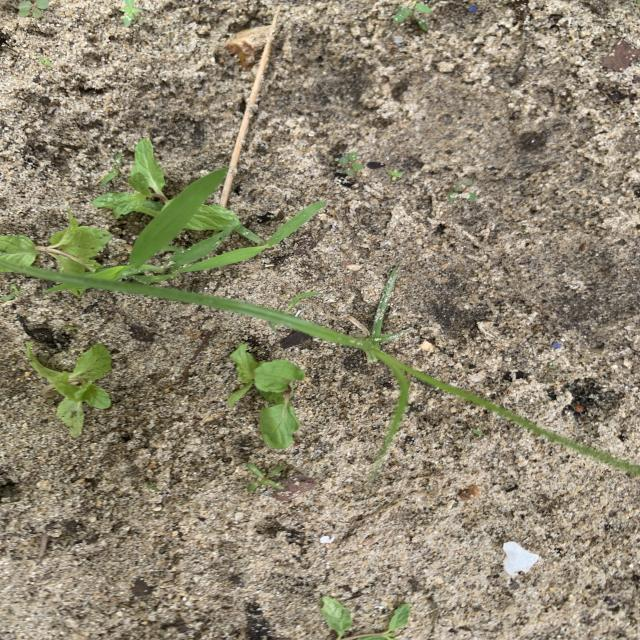crop: (227, 344, 309, 449), (26, 342, 112, 438), (0, 211, 112, 274), (93, 139, 168, 218), (321, 596, 410, 640), (193, 204, 252, 238)
weed: (290, 319, 640, 480), (128, 169, 226, 273), (161, 222, 267, 277), (265, 201, 327, 247), (85, 264, 166, 284), (114, 0, 147, 26), (240, 303, 278, 324), (18, 0, 50, 18), (345, 152, 362, 177), (386, 169, 403, 182), (115, 289, 140, 294)
